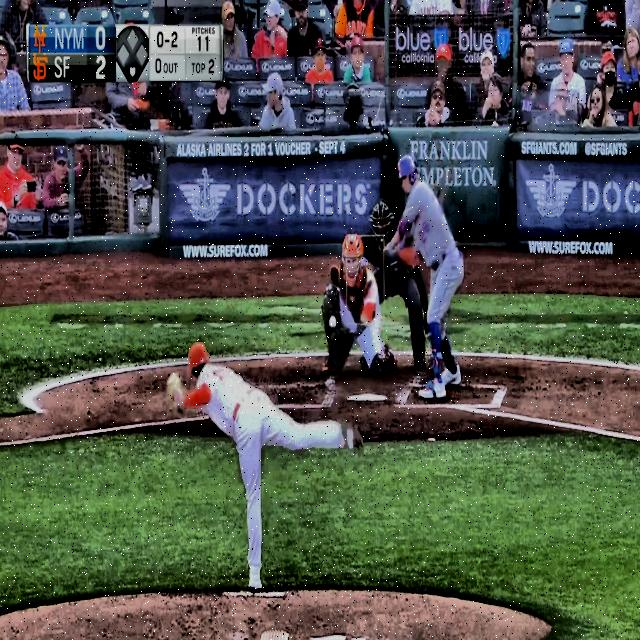baseball: (328, 314, 337, 330)
